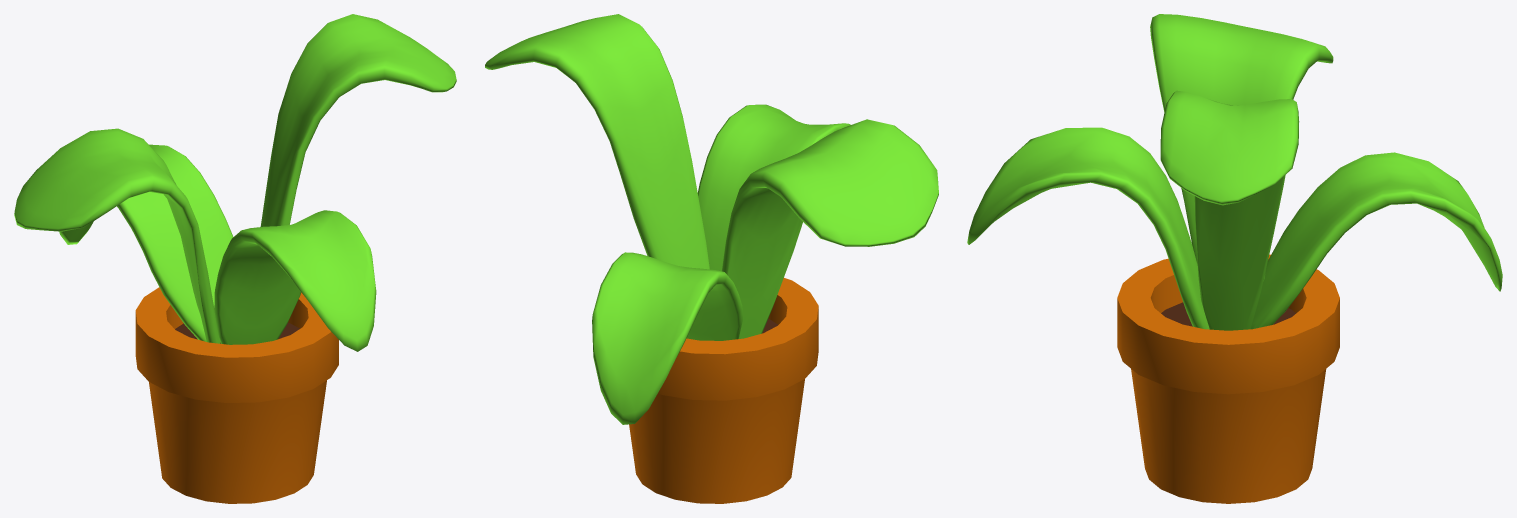
The model's file is PottedPlant.fbx.
3 renders of one model, left to right at view 1: azimuth 30°, elevation 25°; view 2: azimuth 150°, elevation 25°; view 3: azimuth 270°, elevation 25°, orthographic. The views are drawn at different scales.
Visible parts, largest first — view 1: pCube6; view 2: pCube6; view 3: pCube6.
Part boxes in pixels (x1,y1,x2,y2): pCube6: (14,14,456,503); pCube6: (485,14,938,503); pCube6: (967,14,1502,503).
Size of the model in its own units: 4.78 by 4.33 by 4.81.
